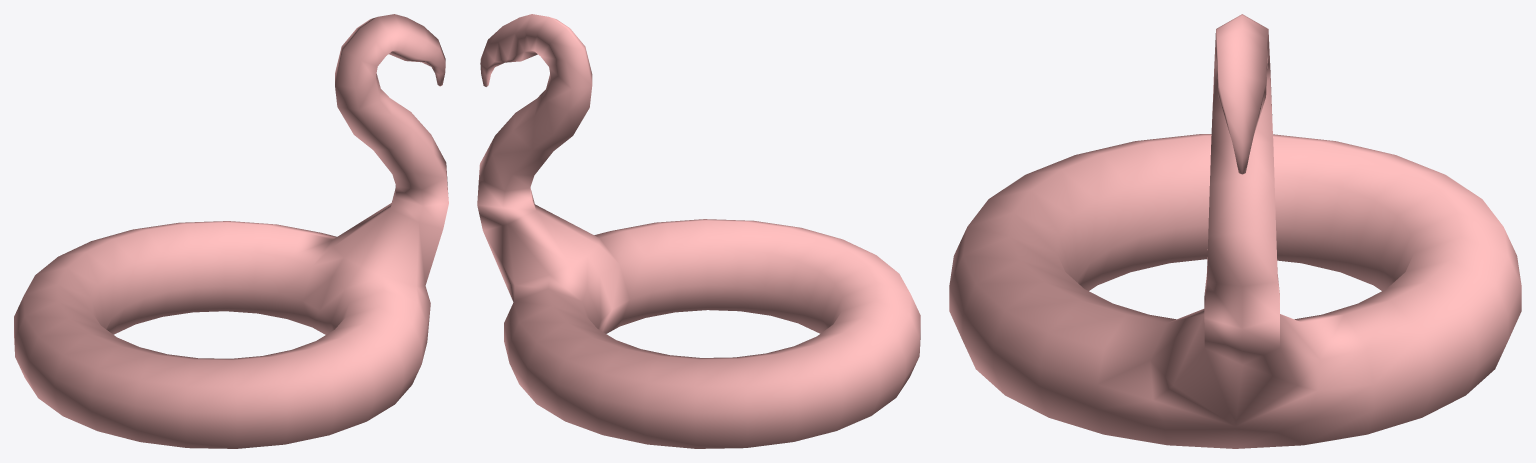
Rendered from PoolToy03.glb.
3 renders of one model, left to right at view 1: azimuth 30°, elevation 25°; view 2: azimuth 150°, elevation 25°; view 3: azimuth 270°, elevation 25°, orthographic. The views are drawn at different scales.
Parts seen in each view (by area): view 1: Torus.002; view 2: Torus.002; view 3: Torus.002.
Boxes of the visible parts, box(x1,y1,x2,y2) form: Torus.002: box(14, 14, 448, 448); Torus.002: box(477, 14, 920, 448); Torus.002: box(949, 14, 1521, 448).
Size of what is drawn, in the model's own units: 2.19 by 1.65 by 1.92.
